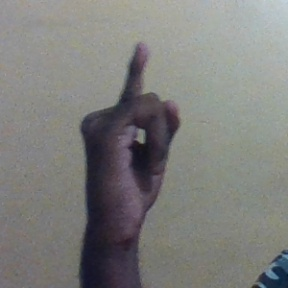I: (82, 39, 188, 236)
